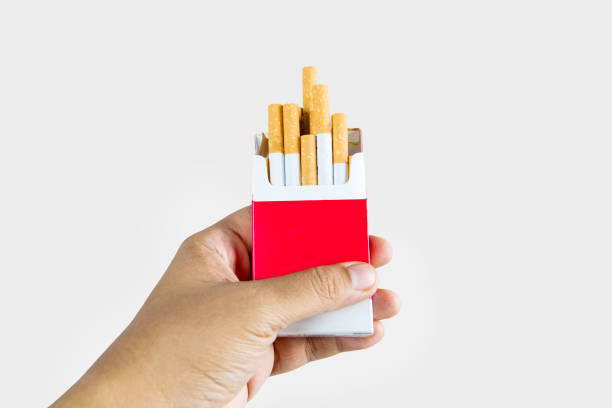cigarette: (255, 126, 376, 336), (312, 83, 333, 184), (282, 103, 301, 186), (266, 104, 284, 186), (302, 65, 318, 134), (332, 112, 347, 185), (301, 134, 317, 185)
